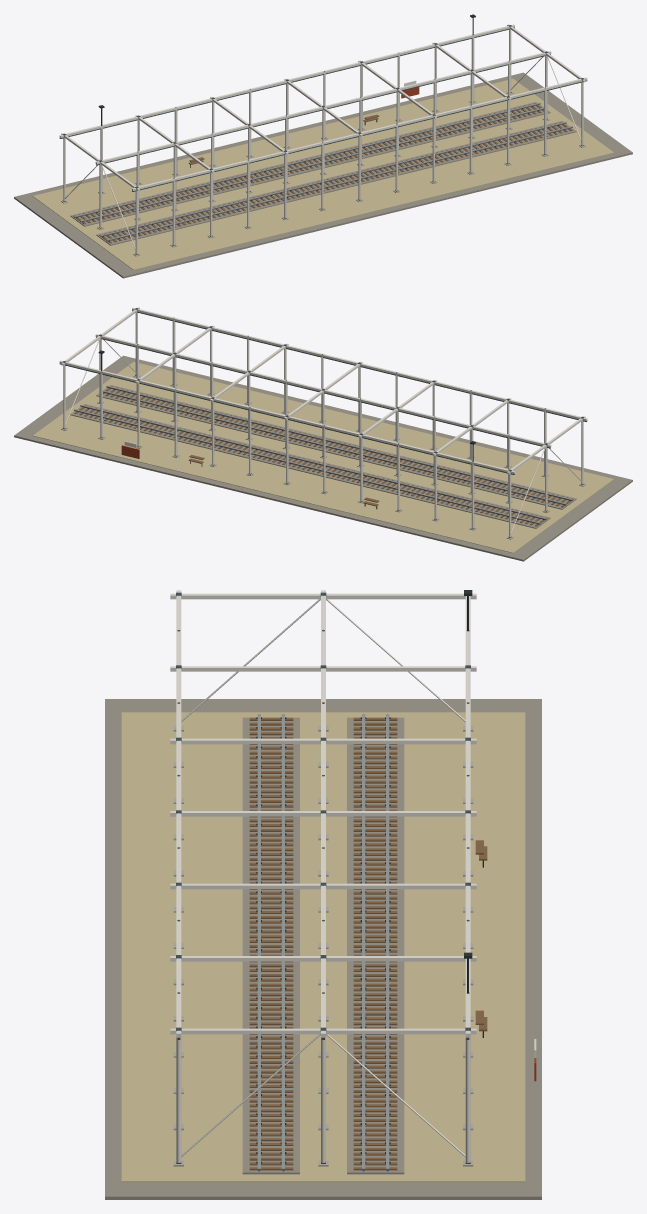
3 renders of one model, top to bottom at view 1: azimuth 30°, elevation 25°; view 2: azimuth 150°, elevation 25°; view 3: azimuth 270°, elevation 25°, orthographic. The views are drawn at different scales.
Bounding box in the file's own units: 4.18 × 0.6972 × 1.55.
